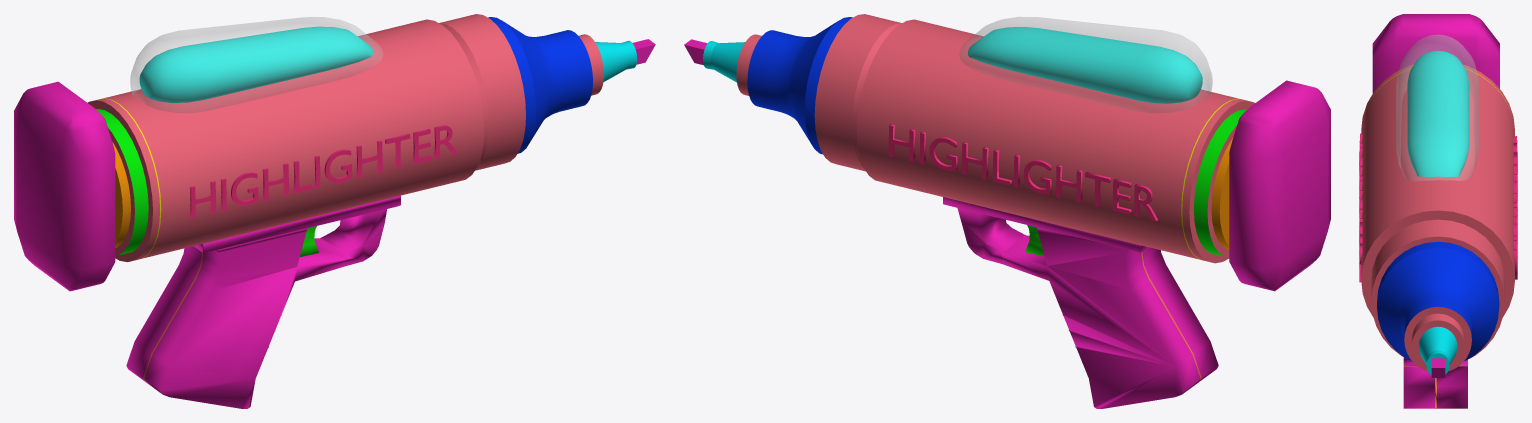
File: gun.fbx
3 renders of one model, left to right at view 1: azimuth 30°, elevation 25°; view 2: azimuth 150°, elevation 25°; view 3: azimuth 270°, elevation 25°, orthographic. The views are drawn at different scales.
Parts seen in each view (by area): view 1: main, handle, arm, glass, color, text; view 2: main, handle, arm, glass, color, text2; view 3: main, glass, color, arm, handle, text2, text, tip.
Part boxes in pixels (bbox=[...]): main: bbox=[87, 14, 637, 262]; handle: bbox=[126, 195, 400, 408]; arm: bbox=[14, 81, 115, 291]; glass: bbox=[130, 17, 382, 112]; color: bbox=[139, 26, 373, 103]; text: bbox=[189, 125, 457, 218]; main: bbox=[703, 14, 1254, 263]; handle: bbox=[943, 197, 1218, 408]; arm: bbox=[1229, 80, 1330, 291]; glass: bbox=[959, 16, 1212, 112]; color: bbox=[968, 27, 1202, 103]; text2: bbox=[888, 124, 1158, 221]; main: bbox=[1361, 64, 1514, 374]; glass: bbox=[1396, 34, 1479, 180]; color: bbox=[1407, 50, 1469, 176]; arm: bbox=[1372, 14, 1499, 93]; handle: bbox=[1403, 357, 1467, 408]; text2: bbox=[1513, 136, 1517, 279]; text: bbox=[1359, 133, 1362, 282]; tip: bbox=[1431, 358, 1445, 377].
Bounding box in the file's own units: 196 × 113 × 47.09.
